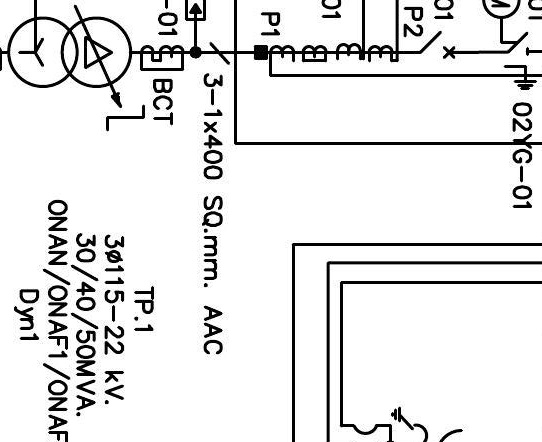11522_tx_dyn1: (6, 16, 133, 89)
115_breaker: (419, 30, 456, 60)
